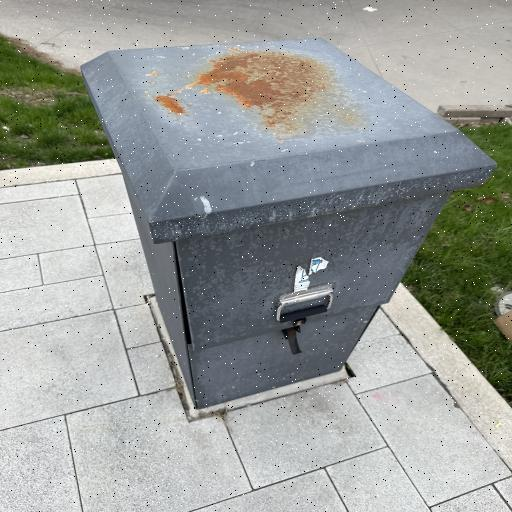Electrical Box: (81, 37, 499, 409)
